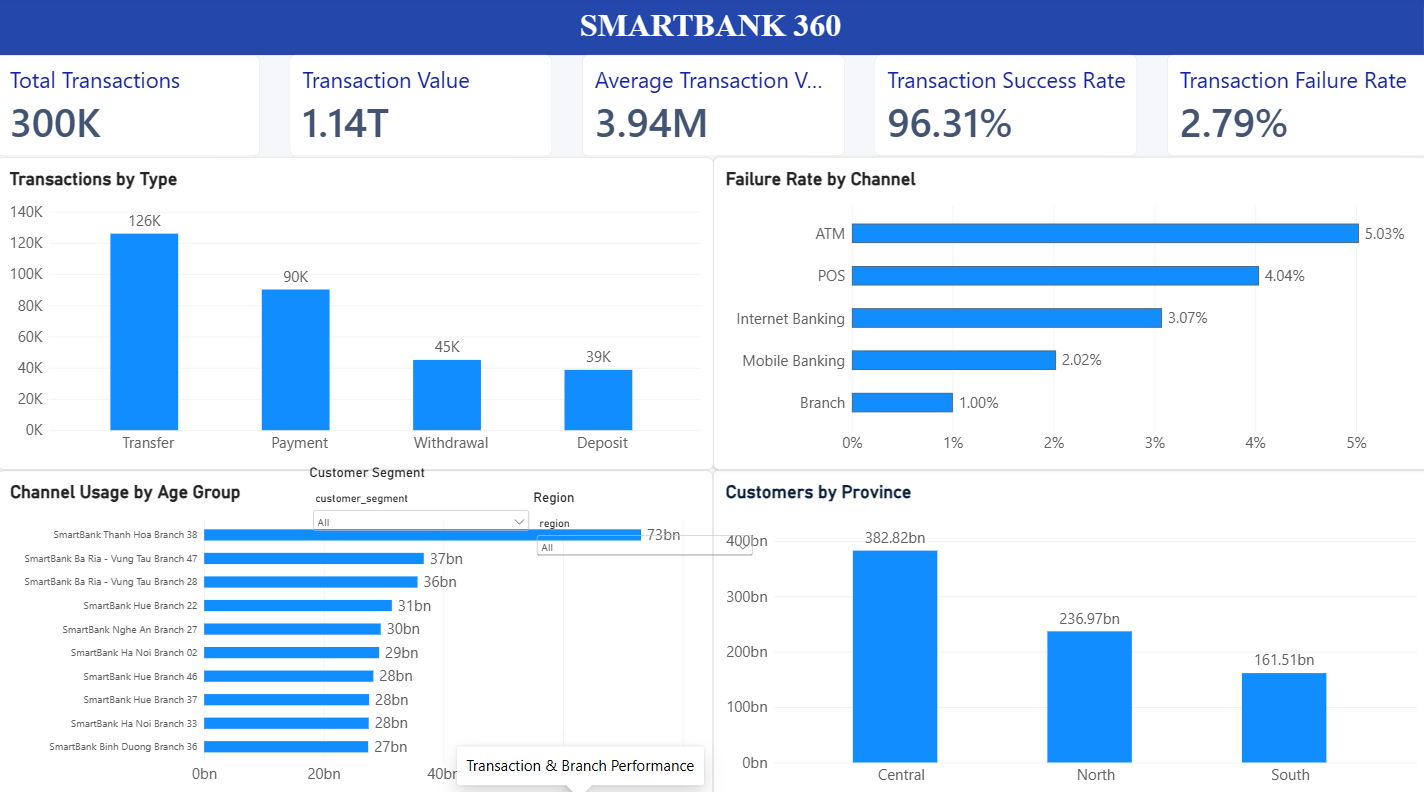

The page's visual inventory and layout, read from the dashboard file:
{"tool":"powerbi","page":{"name":"Transaction & Branch Performance","canvas":[1920,1080],"ordinal":2},"visuals":[{"type":"cardVisual","fields":{"Data":["KPI_Measures.Total Transactions"]},"box":[0,79.5,352.3,136.4],"z":0},{"type":"shape","box":[0,0,1920.4,80],"z":1000},{"type":"textbox","box":[0,15,1920,63],"z":2000},{"type":"clusteredColumnChart","title":"Customers by Province","fields":{"Category":["branches.region"],"Y":["KPI_Measures.Transaction Value"]},"box":[960.2,634.4,960.2,445.1],"z":3000},{"type":"cardVisual","fields":{"Data":["KPI_Measures.Transaction Value"]},"box":[392,79.5,352.3,136.4],"z":4000},{"type":"cardVisual","fields":{"Data":["KPI_Measures.Average Transaction Value"]},"box":[784.1,79.5,352.3,136.4],"z":5000},{"type":"cardVisual","fields":{"Data":["KPI_Measures.Transaction Success Rate"]},"box":[1176.1,79.5,352.3,136.4],"z":6000},{"type":"cardVisual","fields":{"Data":["KPI_Measures.Transaction Failure Rate"]},"box":[1568.1,79.5,352.3,136.4],"z":7000},{"type":"clusteredBarChart","title":"Failure Rate by Channel","fields":{"Category":["transactions.transaction_channel"],"Y":["KPI_Measures.Transaction Failure Rate"]},"box":[960.2,215.9,960.2,418.5],"z":8000},{"type":"clusteredBarChart","title":"Channel Usage by Age Group","fields":{"Category":["branches.branch_name"],"Y":["KPI_Measures.Transaction Value"]},"box":[0,634.4,960.2,445.1],"z":9000},{"type":"clusteredColumnChart","title":"Transactions by Type","fields":{"Category":["transactions.transaction_type"],"Y":["KPI_Measures.Total Transactions"]},"box":[0,215.9,960.2,418.5],"z":10000},{"type":"slicer","title":"Customer Segment","fields":{"Values":["customers.customer_segment"]},"box":[418.5,628.8,299.2,90.9],"z":10001},{"type":"slicer","title":"Region","fields":{"Values":["branches.region"]},"box":[717.8,661,299.2,89],"z":10002}]}

Visuals, with their boxes in screenshot pixels (x1, y1, x2, y2), scaled from the page's 1920x1080 canvas onto the 1424x792 screenshot:
cardVisual - KPI_Measures.Total Transactions: 0, 58, 261, 158
shape: 0, 0, 1423, 59
textbox: 0, 11, 1423, 57
"Customers by Province" clusteredColumnChart: 712, 465, 1423, 791
cardVisual - KPI_Measures.Transaction Value: 291, 58, 552, 158
cardVisual - KPI_Measures.Average Transaction Value: 582, 58, 843, 158
cardVisual - KPI_Measures.Transaction Success Rate: 872, 58, 1134, 158
cardVisual - KPI_Measures.Transaction Failure Rate: 1163, 58, 1423, 158
"Failure Rate by Channel" clusteredBarChart: 712, 158, 1423, 465
"Channel Usage by Age Group" clusteredBarChart: 0, 465, 712, 791
"Transactions by Type" clusteredColumnChart: 0, 158, 712, 465
"Customer Segment" slicer: 310, 461, 532, 528
"Region" slicer: 532, 485, 754, 550
